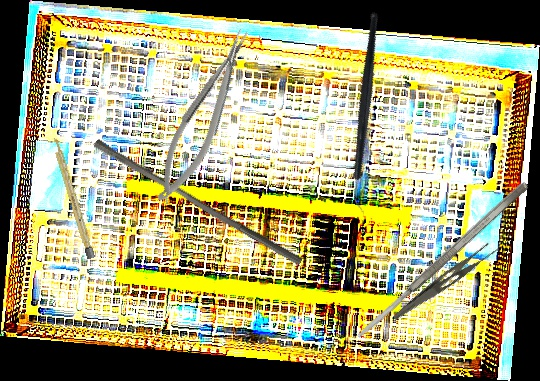Chopper: (289, 10, 447, 217)
Dressing Forceps: (392, 235, 501, 331)
Needle Holder: (142, 24, 267, 210)
Pusher: (89, 138, 308, 266)
Scalpel Handle: (50, 136, 96, 260)
Spatula Surgical: (352, 179, 531, 343)
